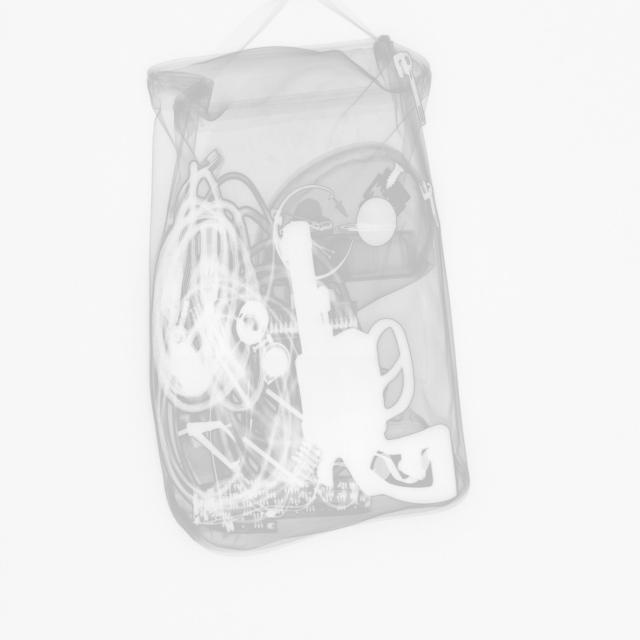pistol: (278, 220, 458, 506)
